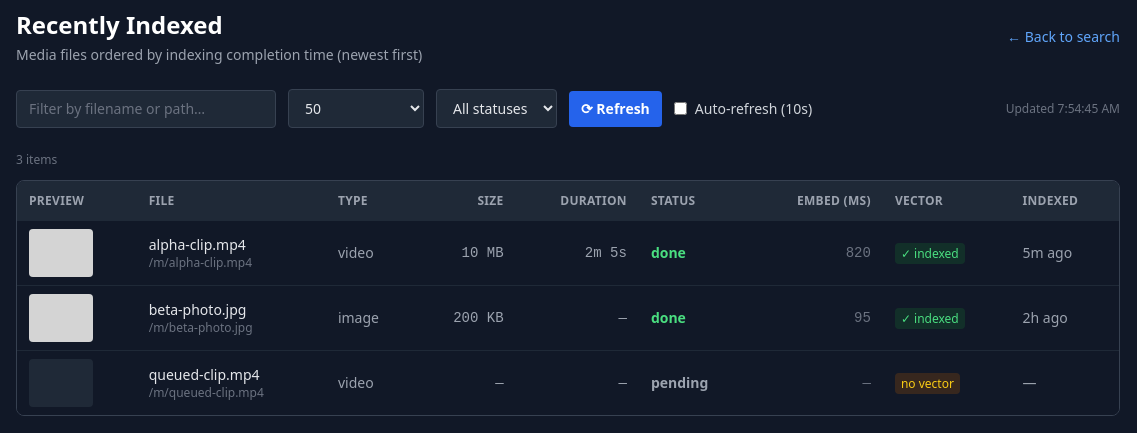
Test: /recent page › shows the "no rows match" hint when filter excludes every row
Expected: the link "alpha-clip.mp4" is shown, [149,235,246,254]
Type "zzzzz" into the field with placeholder "Filter by filename or path…".
click(146, 108); type("zzzzz")  # box [16,90,276,128]
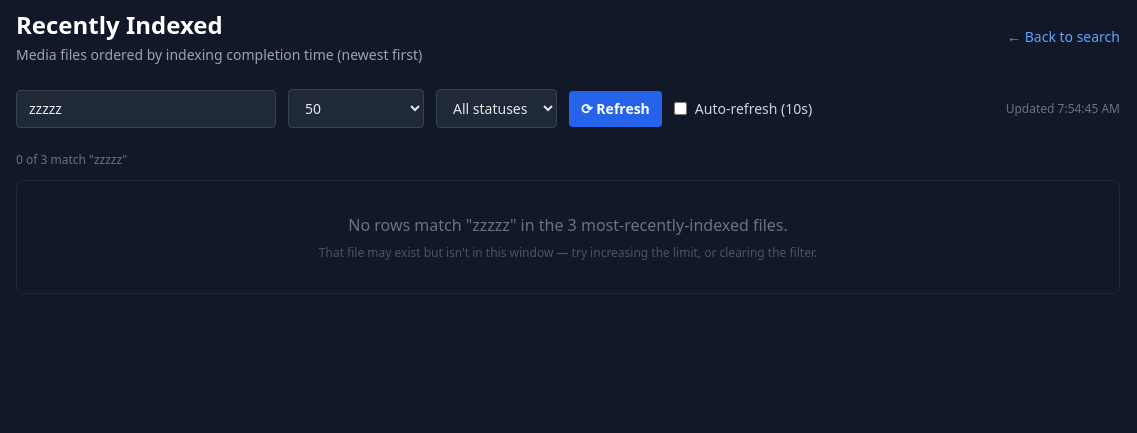
Expected: the text "No rows match" is shown, [348,214,472,236]
Expected: the text "try increasing the limit" is shown, [319,244,817,261]
